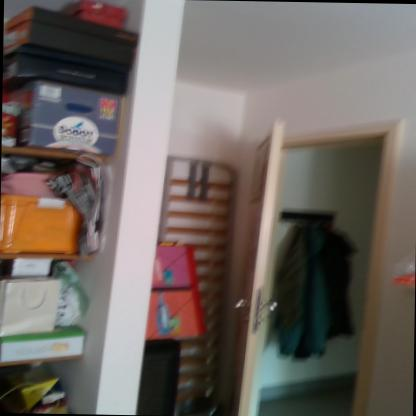semi: (230, 106, 415, 415)
